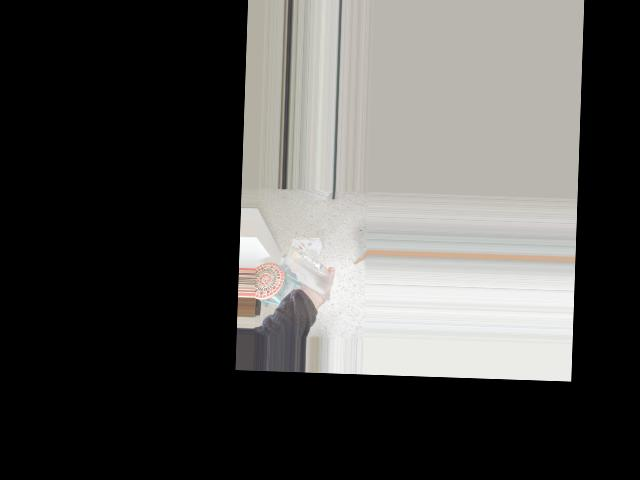cheese: (261, 230, 339, 304)
